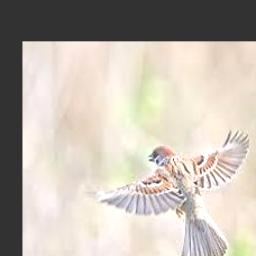Sparrow: (89, 128, 250, 256)
